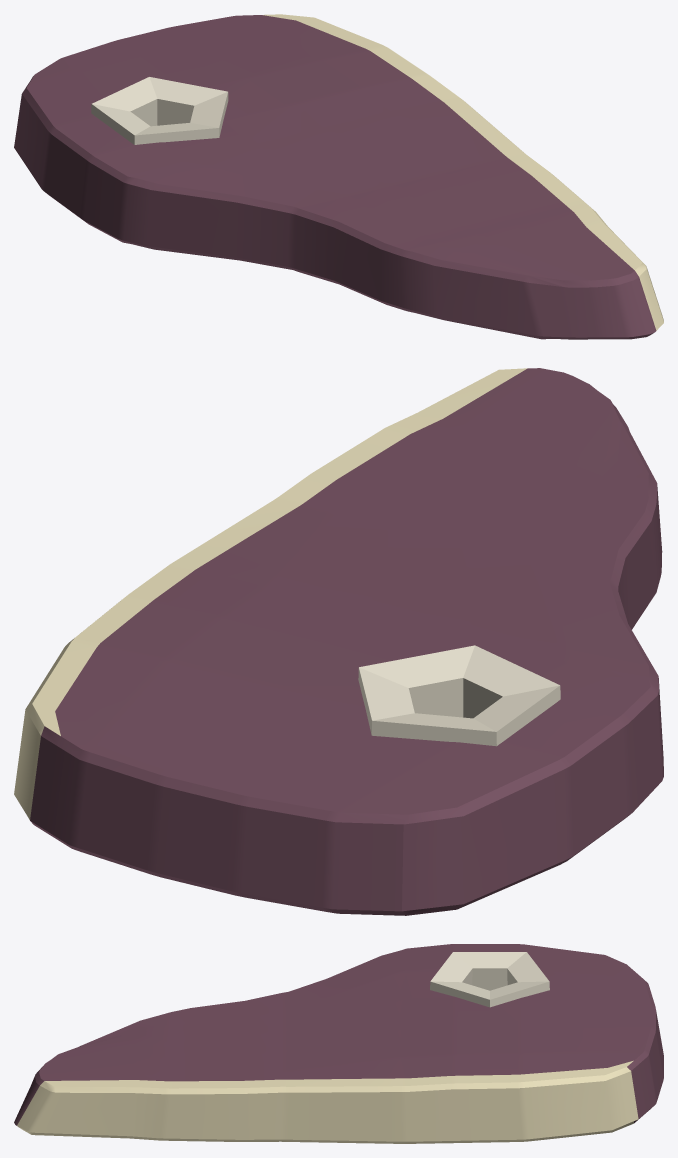
Rendered from Steak.fbx.
3 renders of one model, top to bottom at view 1: azimuth 30°, elevation 25°; view 2: azimuth 150°, elevation 25°; view 3: azimuth 270°, elevation 25°, orthographic. The views are drawn at different scales.
Parts seen in each view (by area): view 1: Steak, Bone1; view 2: Steak, Bone1; view 3: Steak, Bone1.
Boxes of the visible parts, <box> form: Steak: <box>14,14,663,339</box>; Bone1: <box>91,77,228,144</box>; Steak: <box>14,368,663,915</box>; Bone1: <box>358,645,560,746</box>; Steak: <box>14,944,663,1143</box>; Bone1: <box>430,952,549,1007</box>.
Size of the model in its own units: 5.47 by 1.28 by 10.16.
